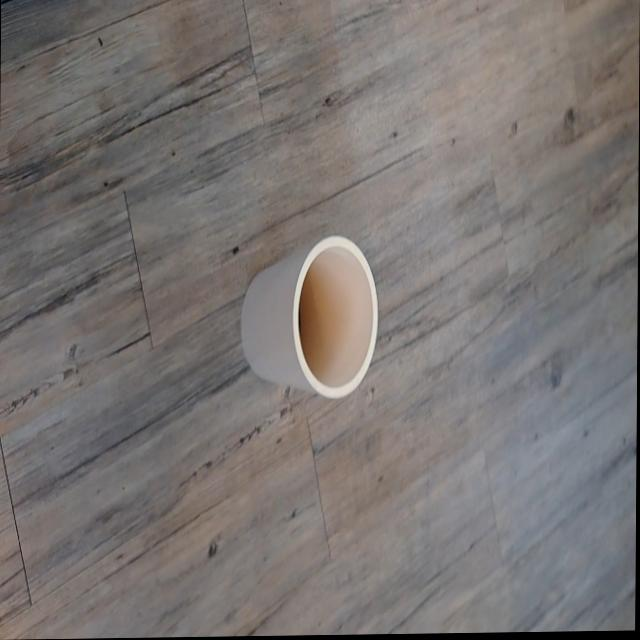CORAL: (229, 205, 408, 420)
